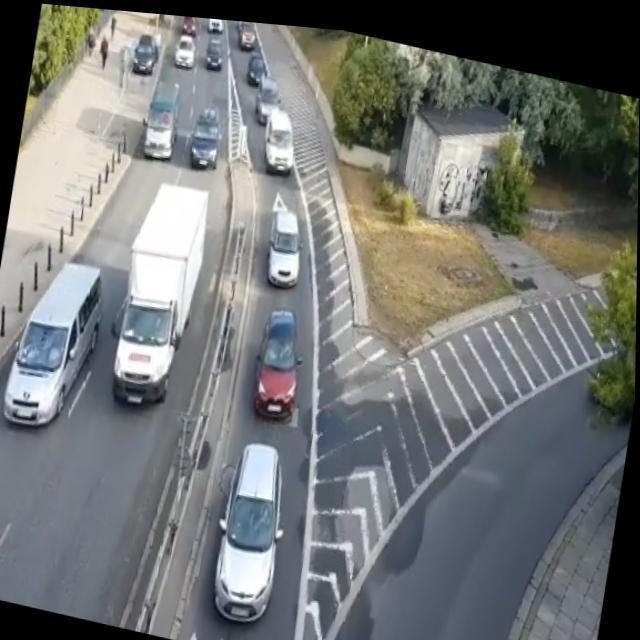Car: (0, 237, 113, 442), (202, 426, 298, 638), (248, 296, 314, 426), (260, 196, 310, 297), (140, 79, 182, 163), (192, 102, 232, 182), (260, 108, 301, 185), (247, 84, 291, 135), (130, 31, 164, 79), (172, 24, 197, 75), (246, 52, 274, 93), (204, 34, 229, 76), (239, 26, 263, 54)
Truck: (99, 162, 218, 429)
